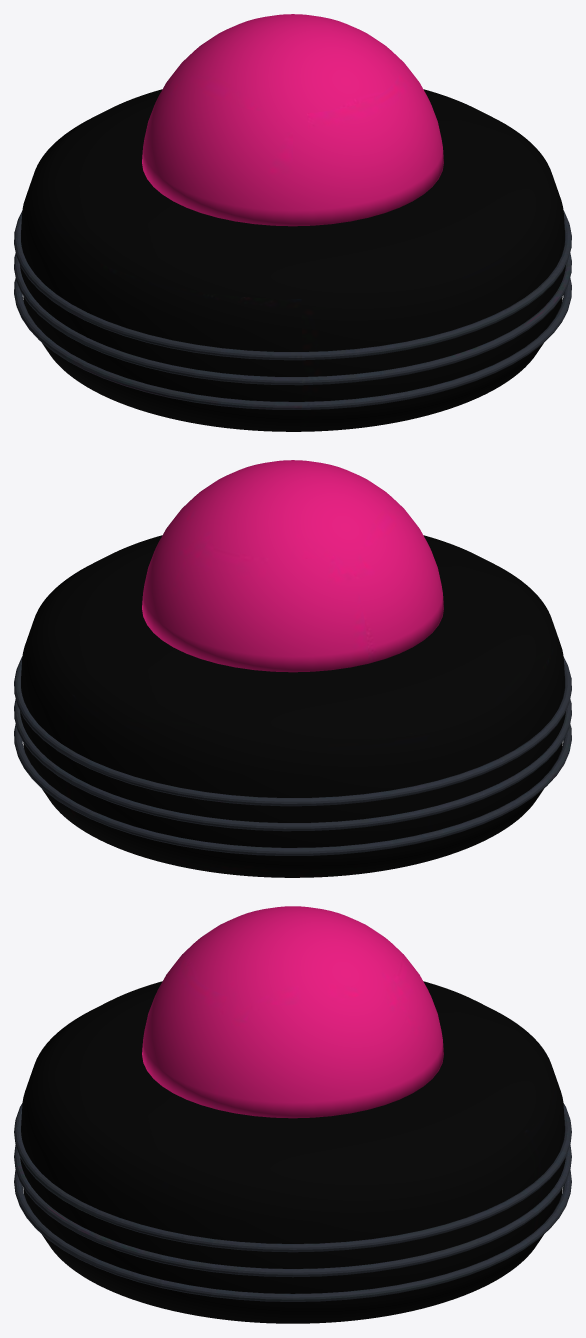
Rendered from fan_motor.glb.
3 views of the same model, one above another, from view 1: azimuth 30°, elevation 25°; view 2: azimuth 150°, elevation 25°; view 3: azimuth 270°, elevation 25° (orthographic).
Visible parts, largest first — view 1: fan_motor; view 2: fan_motor; view 3: fan_motor.
Boxes of the visible parts, bbox=[...] form: fan_motor: bbox=[14, 14, 571, 431]; fan_motor: bbox=[14, 460, 571, 877]; fan_motor: bbox=[14, 906, 571, 1323].
Size of the model in its own units: 2.03 by 1.25 by 2.03.
Materials: 1 (1 with a texture image).
